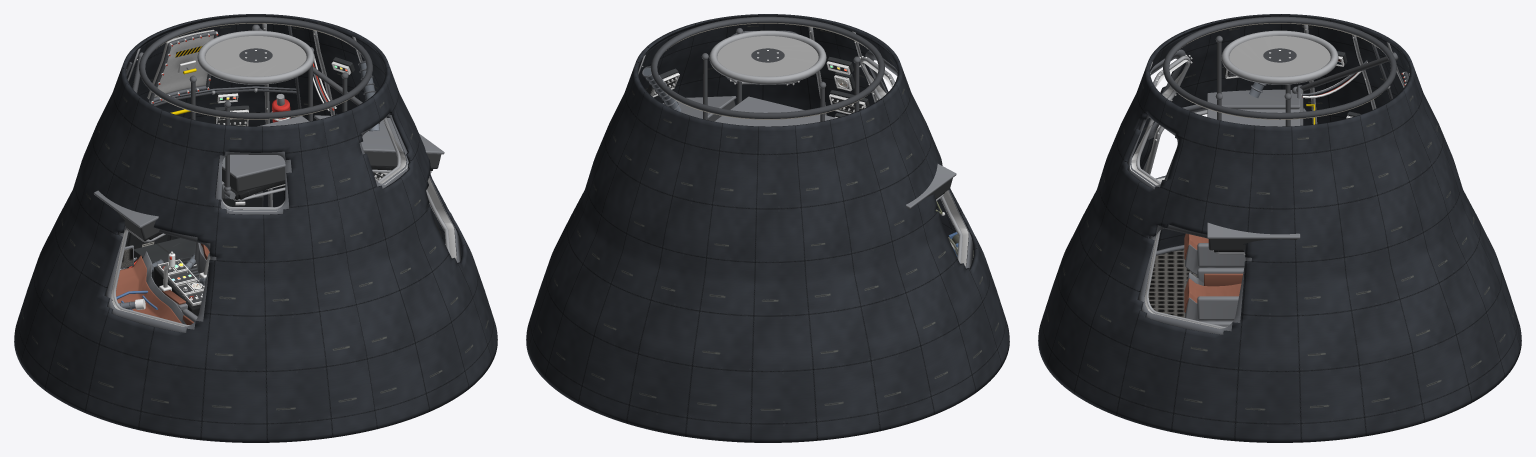
The model's file is Mk13Interior.fbx.
3 renders of one model, left to right at view 1: azimuth 30°, elevation 25°; view 2: azimuth 150°, elevation 25°; view 3: azimuth 270°, elevation 25°, orthographic.
Visible parts, largest first — view 1: Mesh_WallPanel, Mesh_FrameDark, Mesh_Hatch, Mesh_CouchFrame, Mesh_Frame, Mesh_ModulePlate, Mesh_Bezel, Mesh_Locker, Mesh_Cushion, Mesh_SeatShell, Mesh_Console, Mesh_Umbilical (+1 smaller); view 2: Mesh_WallPanel, Mesh_FrameDark, Mesh_CouchFrame, Mesh_Frame, Mesh_Hatch, Mesh_Bezel, Mesh_ModulePlate, Mesh_Locker, Mesh_LightStrip; view 3: Mesh_WallPanel, Mesh_FrameDark, Mesh_CouchFrame, Mesh_Frame, Mesh_Hatch, Mesh_SeatShell, Mesh_FloorGrate, Mesh_Cushion, Mesh_Bezel, Mesh_ModulePlate, Mesh_LightStrip.
Part boxes in pixels (x1,y1,x2,y2): Mesh_WallPanel: [14, 14, 497, 442]; Mesh_FrameDark: [105, 16, 461, 332]; Mesh_Hatch: [147, 29, 306, 98]; Mesh_CouchFrame: [93, 24, 444, 310]; Mesh_Frame: [113, 23, 450, 326]; Mesh_ModulePlate: [97, 66, 441, 305]; Mesh_Bezel: [111, 60, 456, 326]; Mesh_Locker: [125, 57, 354, 280]; Mesh_Cushion: [116, 243, 209, 324]; Mesh_SeatShell: [142, 242, 206, 324]; Mesh_Console: [127, 166, 442, 316]; Mesh_Umbilical: [118, 63, 379, 309]; Mesh_WallPanel: [526, 14, 1009, 442]; Mesh_FrameDark: [642, 16, 973, 268]; Mesh_CouchFrame: [662, 28, 956, 208]; Mesh_Frame: [638, 27, 962, 263]; Mesh_Hatch: [717, 36, 818, 76]; Mesh_Bezel: [650, 61, 968, 266]; Mesh_ModulePlate: [651, 64, 952, 209]; Mesh_Locker: [647, 56, 869, 117]; Mesh_LightStrip: [666, 23, 871, 119]; Mesh_WallPanel: [1038, 14, 1521, 442]; Mesh_FrameDark: [1127, 16, 1408, 334]; Mesh_CouchFrame: [1207, 35, 1398, 238]; Mesh_Frame: [1136, 24, 1404, 328]; Mesh_Hatch: [1229, 36, 1409, 76]; Mesh_SeatShell: [1185, 243, 1245, 326]; Mesh_FloorGrate: [1148, 249, 1197, 317]; Mesh_Cushion: [1184, 233, 1242, 312]; Mesh_Bezel: [1130, 56, 1352, 328]; Mesh_ModulePlate: [1208, 56, 1351, 250]; Mesh_LightStrip: [1177, 23, 1382, 119].
Size of the model in its own units: 2.39 by 1.58 by 2.39.
